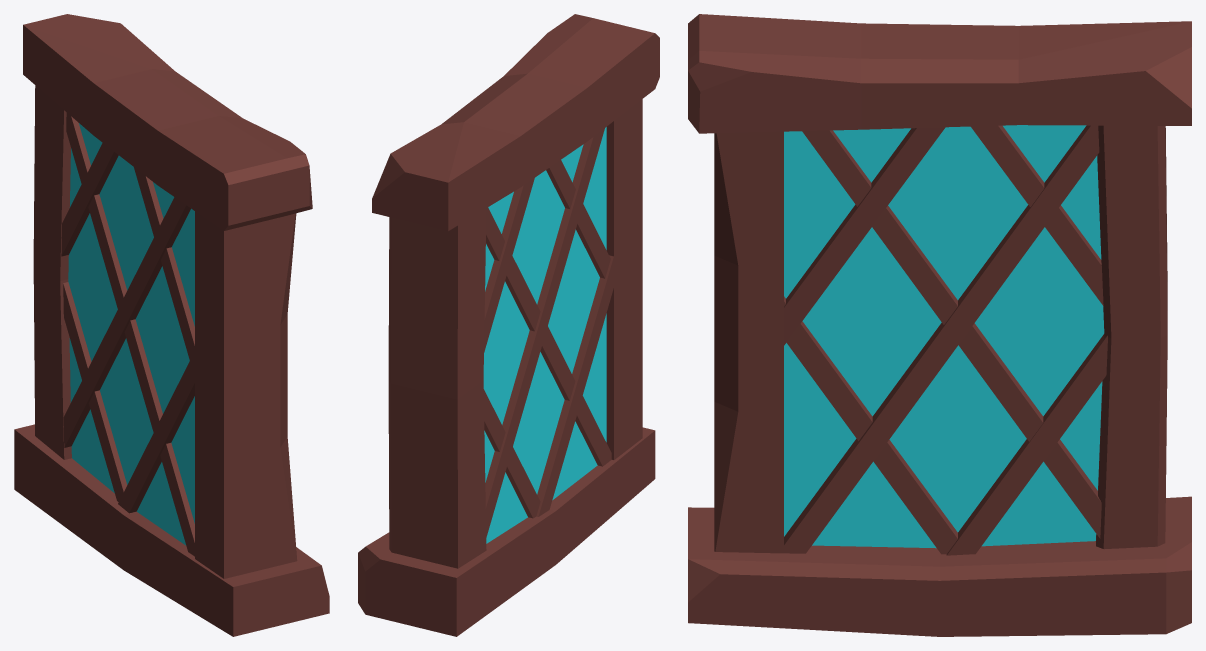
The model's file is BuildingWindow_01.fbx.
3 renders of one model, left to right at view 1: azimuth 30°, elevation 25°; view 2: azimuth 150°, elevation 25°; view 3: azimuth 270°, elevation 25°, orthographic. The views are drawn at different scales.
Visible parts, largest first — view 1: BuildingWindow_01; view 2: BuildingWindow_01; view 3: BuildingWindow_01.
Boxes of the visible parts, left/top/right/bottom form: BuildingWindow_01: left=14, top=14, right=329, bottom=636; BuildingWindow_01: left=358, top=14, right=659, bottom=636; BuildingWindow_01: left=688, top=14, right=1191, bottom=636.
Size of the model in its own units: 42.37 by 171 by 139.
